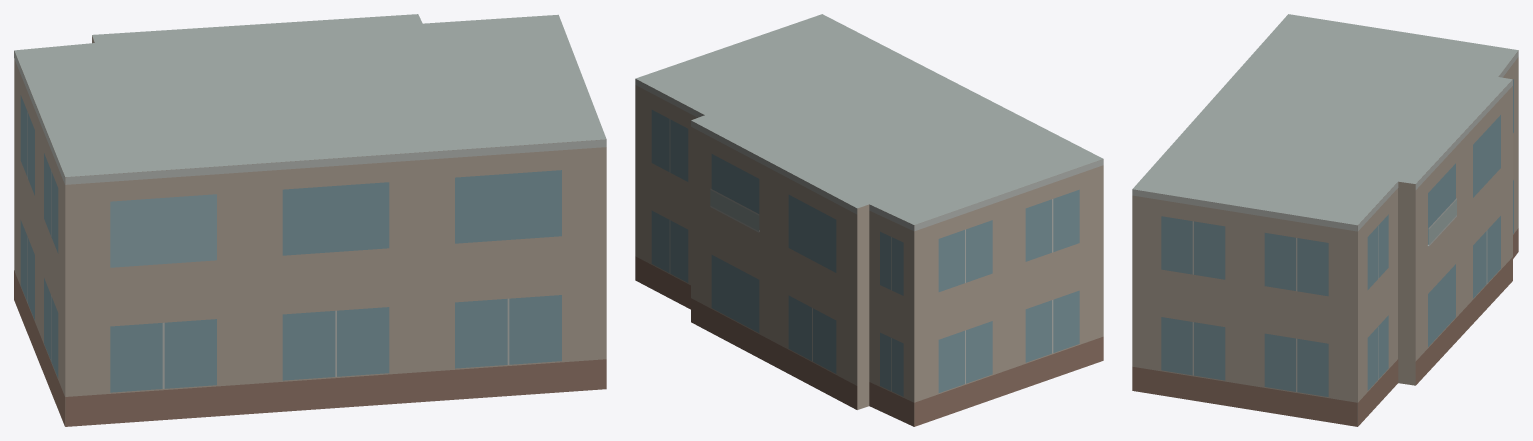
The model's file is survey-upis-32887625.glb.
The picture shows the model from 3 angles, left to right: view 1: azimuth 30°, elevation 25°; view 2: azimuth 150°, elevation 25°; view 3: azimuth 270°, elevation 25°; orthographic projection. The views are drawn at different scales.
Visible parts, largest first — view 1: survey-upis-32887625.tmp; view 2: survey-upis-32887625.tmp; view 3: survey-upis-32887625.tmp.
Boxes of the visible parts, left/top/right/bottom form: survey-upis-32887625.tmp: left=14, top=14, right=606, bottom=426; survey-upis-32887625.tmp: left=635, top=14, right=1103, bottom=426; survey-upis-32887625.tmp: left=1132, top=14, right=1518, bottom=426.
Size of the model in its own units: 17.66 by 7.85 by 13.65.
